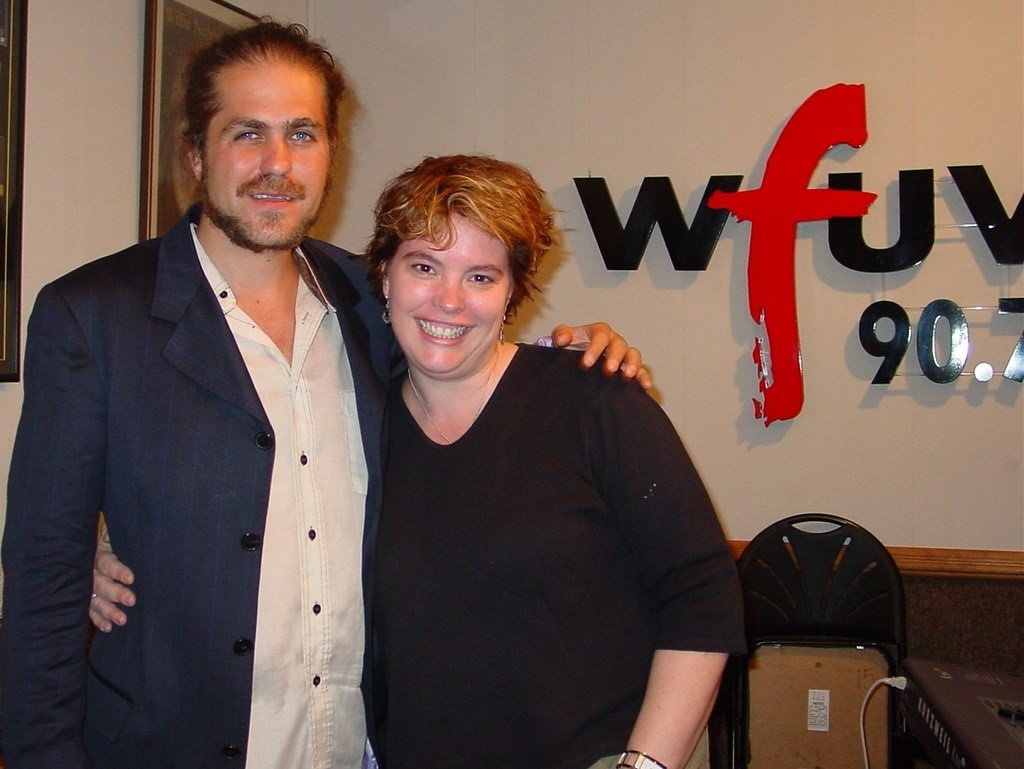face_no_mask: (374, 155, 555, 376), (184, 28, 337, 248)
